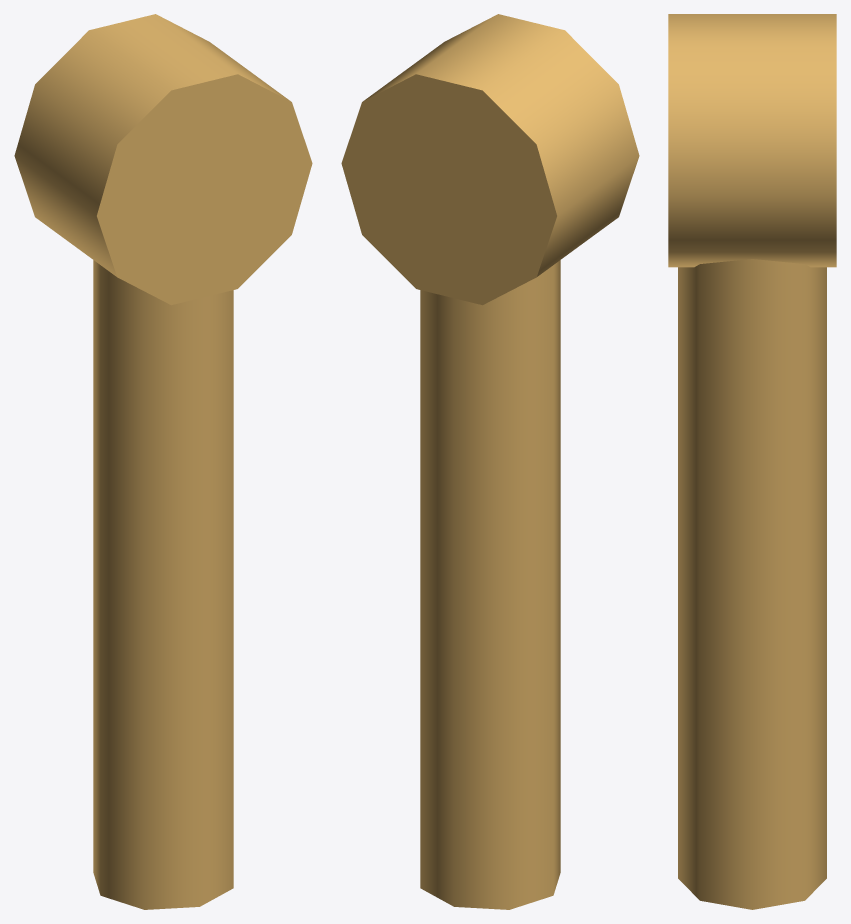
Rendered from ReloaderArm_02.fbx.
3 renders of one model, left to right at view 1: azimuth 30°, elevation 25°; view 2: azimuth 150°, elevation 25°; view 3: azimuth 270°, elevation 25°, orthographic. The views are drawn at different scales.
Visible parts, largest first — view 1: pCylinder37; view 2: pCylinder37; view 3: pCylinder37.
Part boxes in pixels (left/top/right/bottom): pCylinder37: left=14, top=14, right=312, bottom=909; pCylinder37: left=341, top=14, right=639, bottom=909; pCylinder37: left=668, top=14, right=836, bottom=909.
Size of the model in its own units: 20.72 by 75.99 by 13.68.
